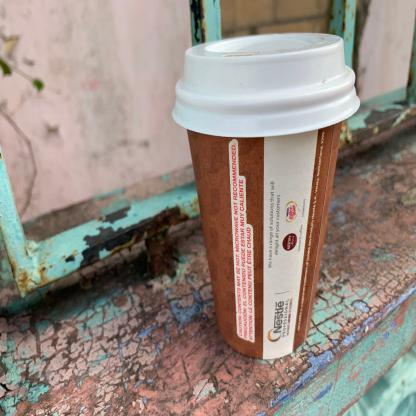trash: (184, 99, 350, 373), (168, 23, 368, 147)
